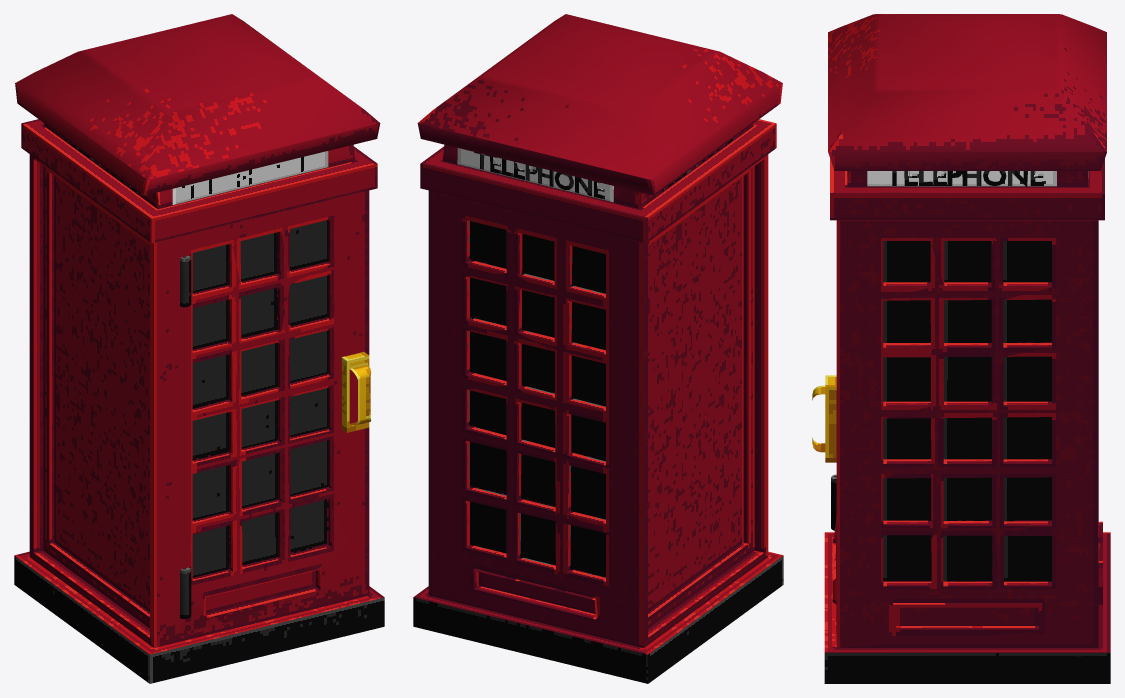
The model's file is pink_phone.glb.
3 renders of one model, left to right at view 1: azimuth 30°, elevation 25°; view 2: azimuth 150°, elevation 25°; view 3: azimuth 270°, elevation 25°, orthographic. The views are drawn at different scales.
Visible parts, largest first — view 1: mesh; view 2: mesh; view 3: mesh.
Boxes of the visible parts, left/top/right/bottom form: mesh: left=14, top=14, right=384, bottom=683; mesh: left=413, top=14, right=783, bottom=683; mesh: left=812, top=14, right=1110, bottom=683.
Bounding box in the file's own units: 0.4301 × 0.97 × 0.4455.
Materials: 1 (1 with a texture image).
